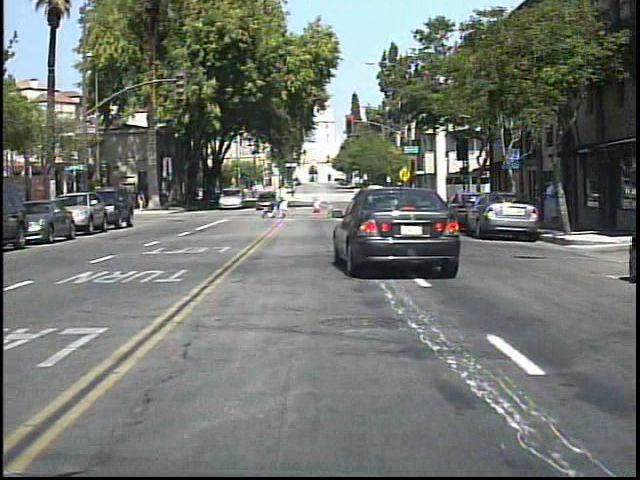person: (537, 174, 558, 232), (278, 182, 294, 220), (137, 189, 146, 213)
